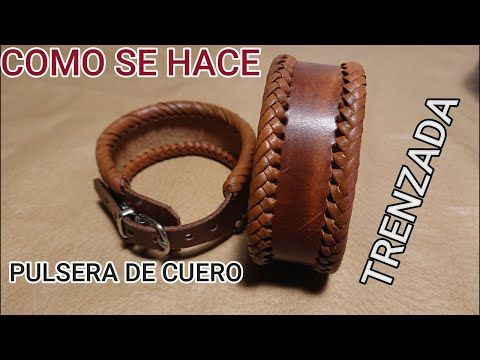cuero: (93, 53, 367, 277)
